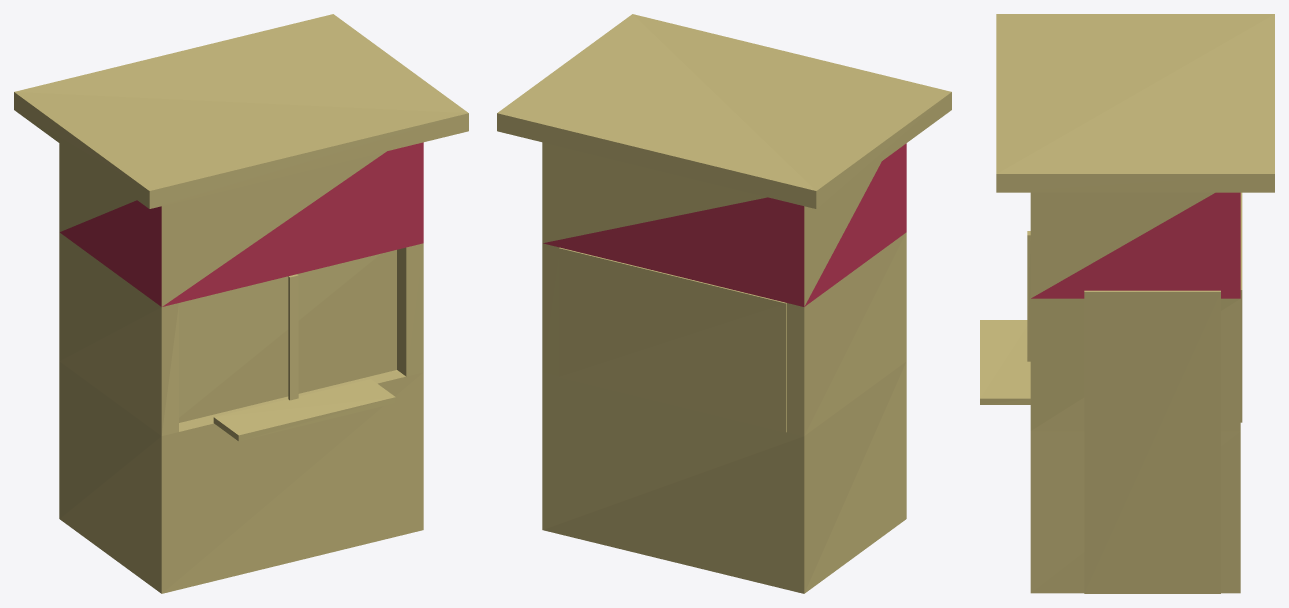
Rendered from ticket-booth-00.glb.
3 views of the same model, side by side, from view 1: azimuth 30°, elevation 25°; view 2: azimuth 150°, elevation 25°; view 3: azimuth 270°, elevation 25° (orthographic). The views are drawn at different scales.
Parts seen in each view (by area): view 1: ticket_booth_00; view 2: ticket_booth_00; view 3: ticket_booth_00.
Boxes of the visible parts, x1,y1,x2,y2 form: ticket_booth_00: (14,14,468,593); ticket_booth_00: (497,14,951,593); ticket_booth_00: (980,14,1274,593).
Bounding box in the file's own units: 2.22 × 2.8 × 1.73.
